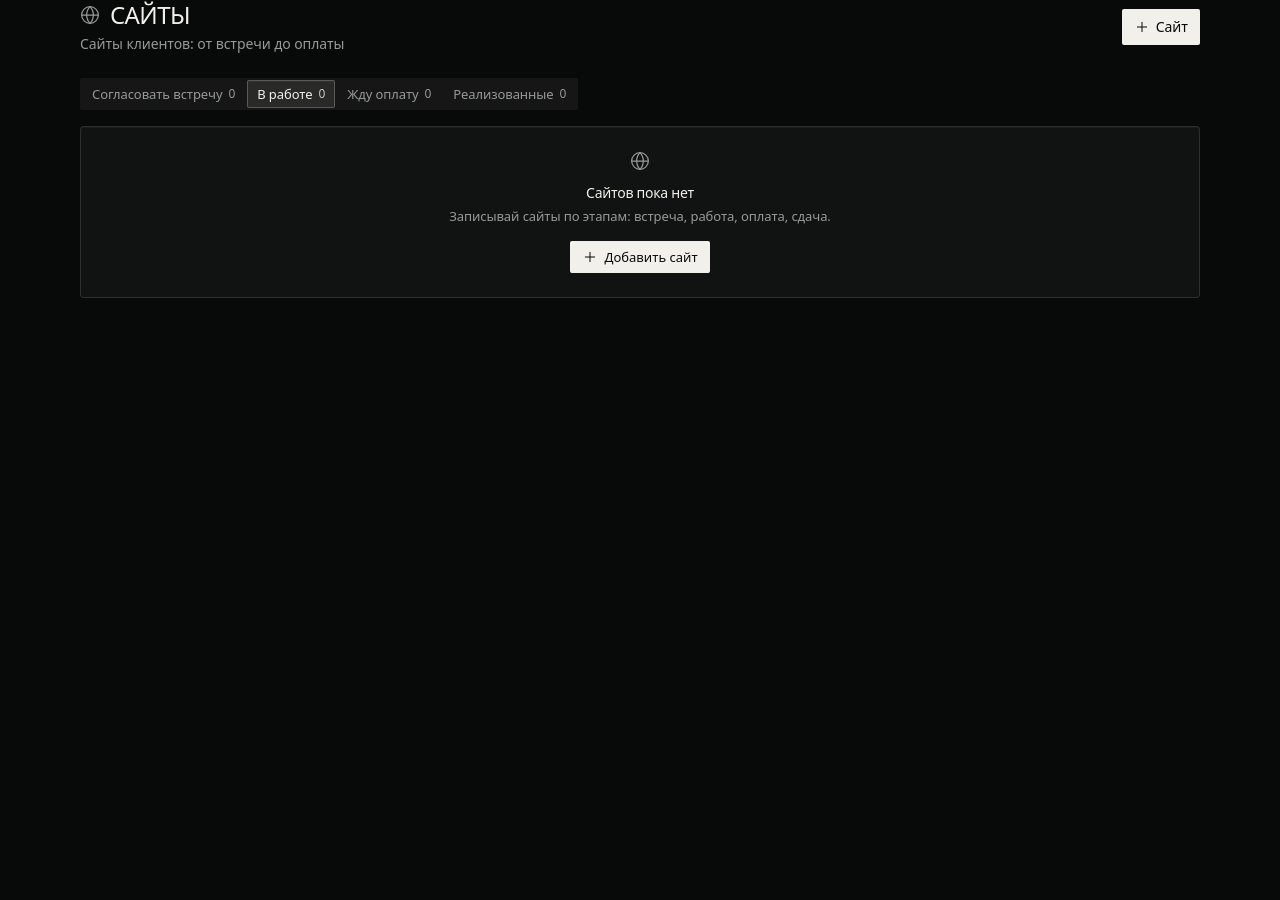
Test: SitesPage › shows an empty state with a way to start
Expected: the heading "Сайтов пока нет" is shown, [586, 183, 694, 203]
Click the button "Добавить сайт": (640, 257) [570, 241, 710, 273]
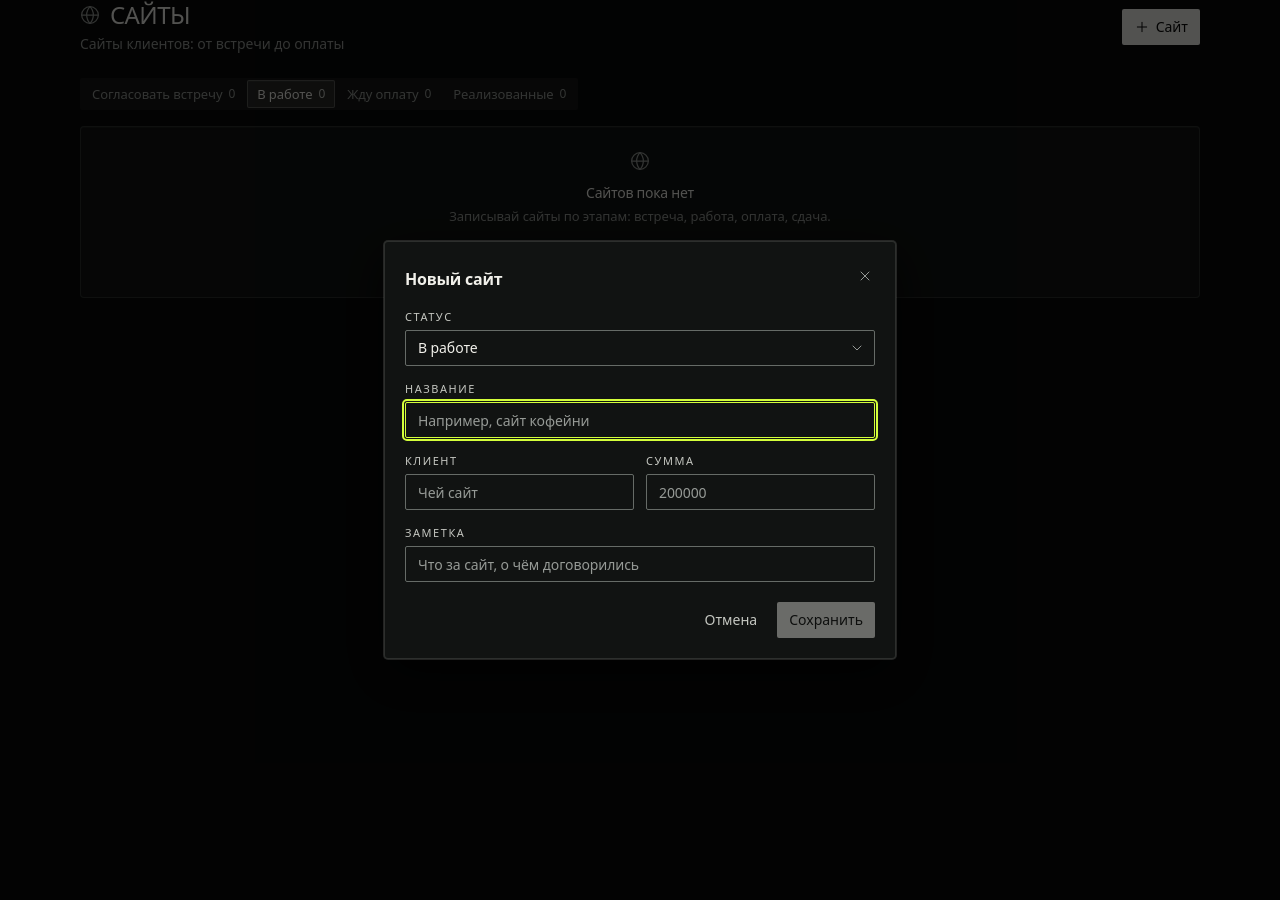
Now the dialog "Новый сайт" is shown, box [384, 241, 896, 659]
